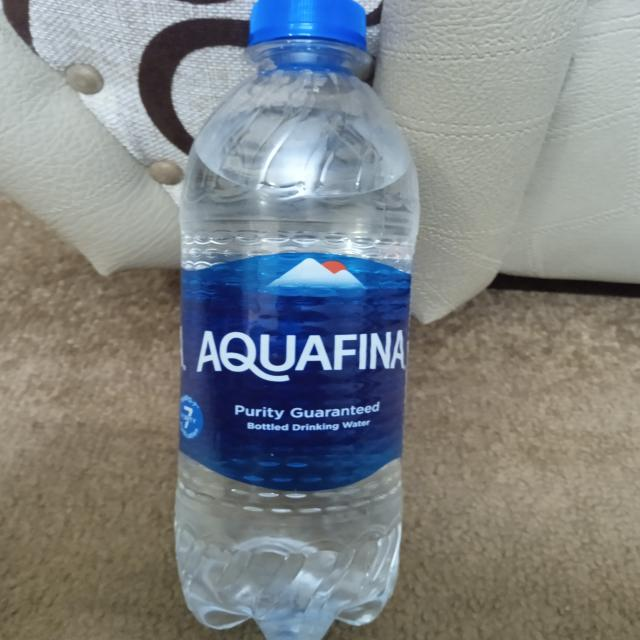Plastic: (166, 0, 416, 640)
